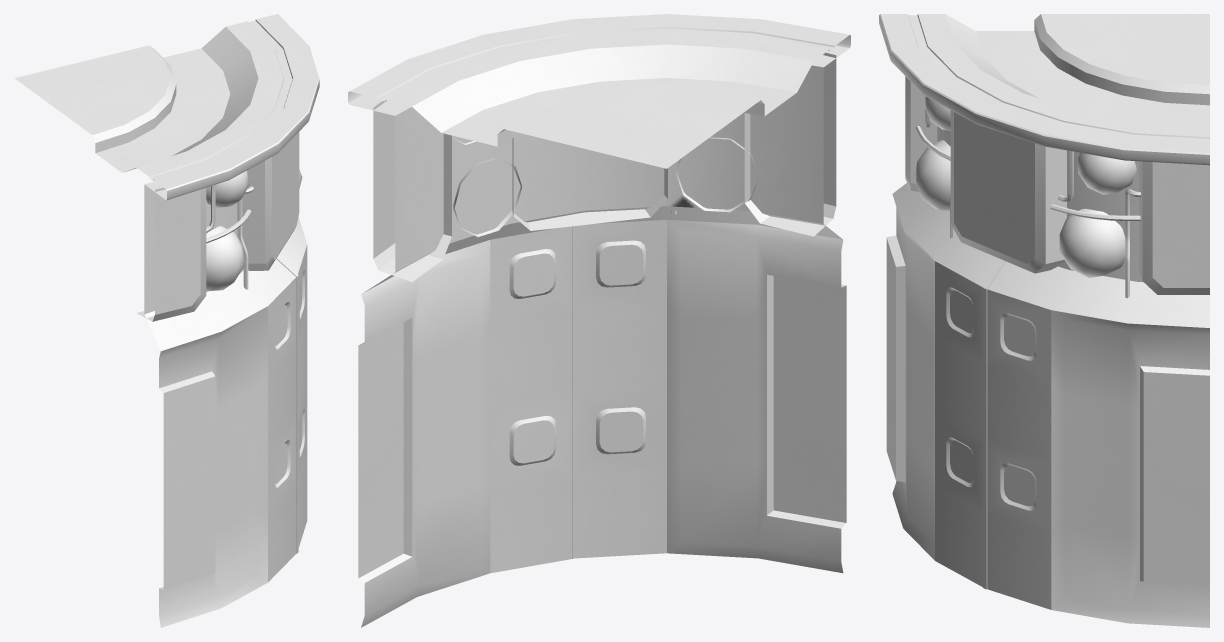
Rendered from greenhouse-prototype.fbx.
3 views of the same model, side by side, from view 1: azimuth 30°, elevation 25°; view 2: azimuth 150°, elevation 25°; view 3: azimuth 270°, elevation 25° (orthographic). The views are drawn at different scales.
Parts seen in each view (by area): view 1: Circle; view 2: Circle; view 3: Circle.
Part boxes in pixels (x1=…): Circle: x1=14, y1=14, x2=319, y2=627; Circle: x1=348, y1=14, x2=850, y2=627; Circle: x1=879, y1=14, x2=1209, y2=627.
Bounding box in the file's own units: 125 × 125 × 200.
